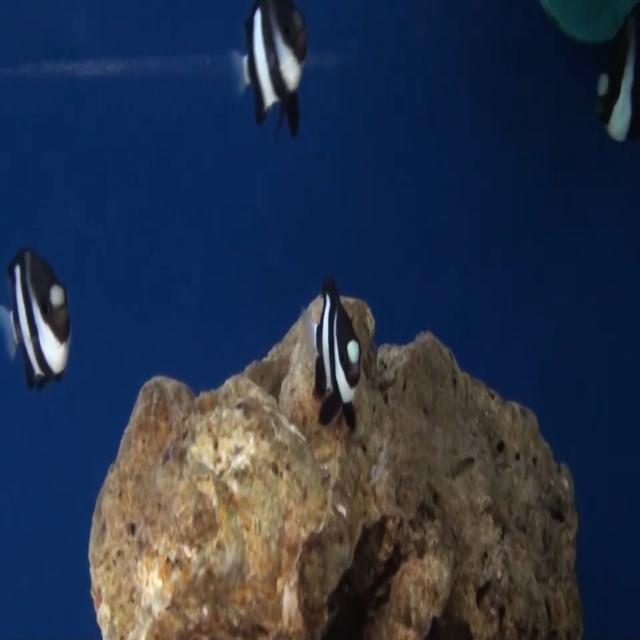ThreeStripedDamselfish: (0, 248, 72, 391), (235, 0, 308, 136), (304, 277, 361, 426)
